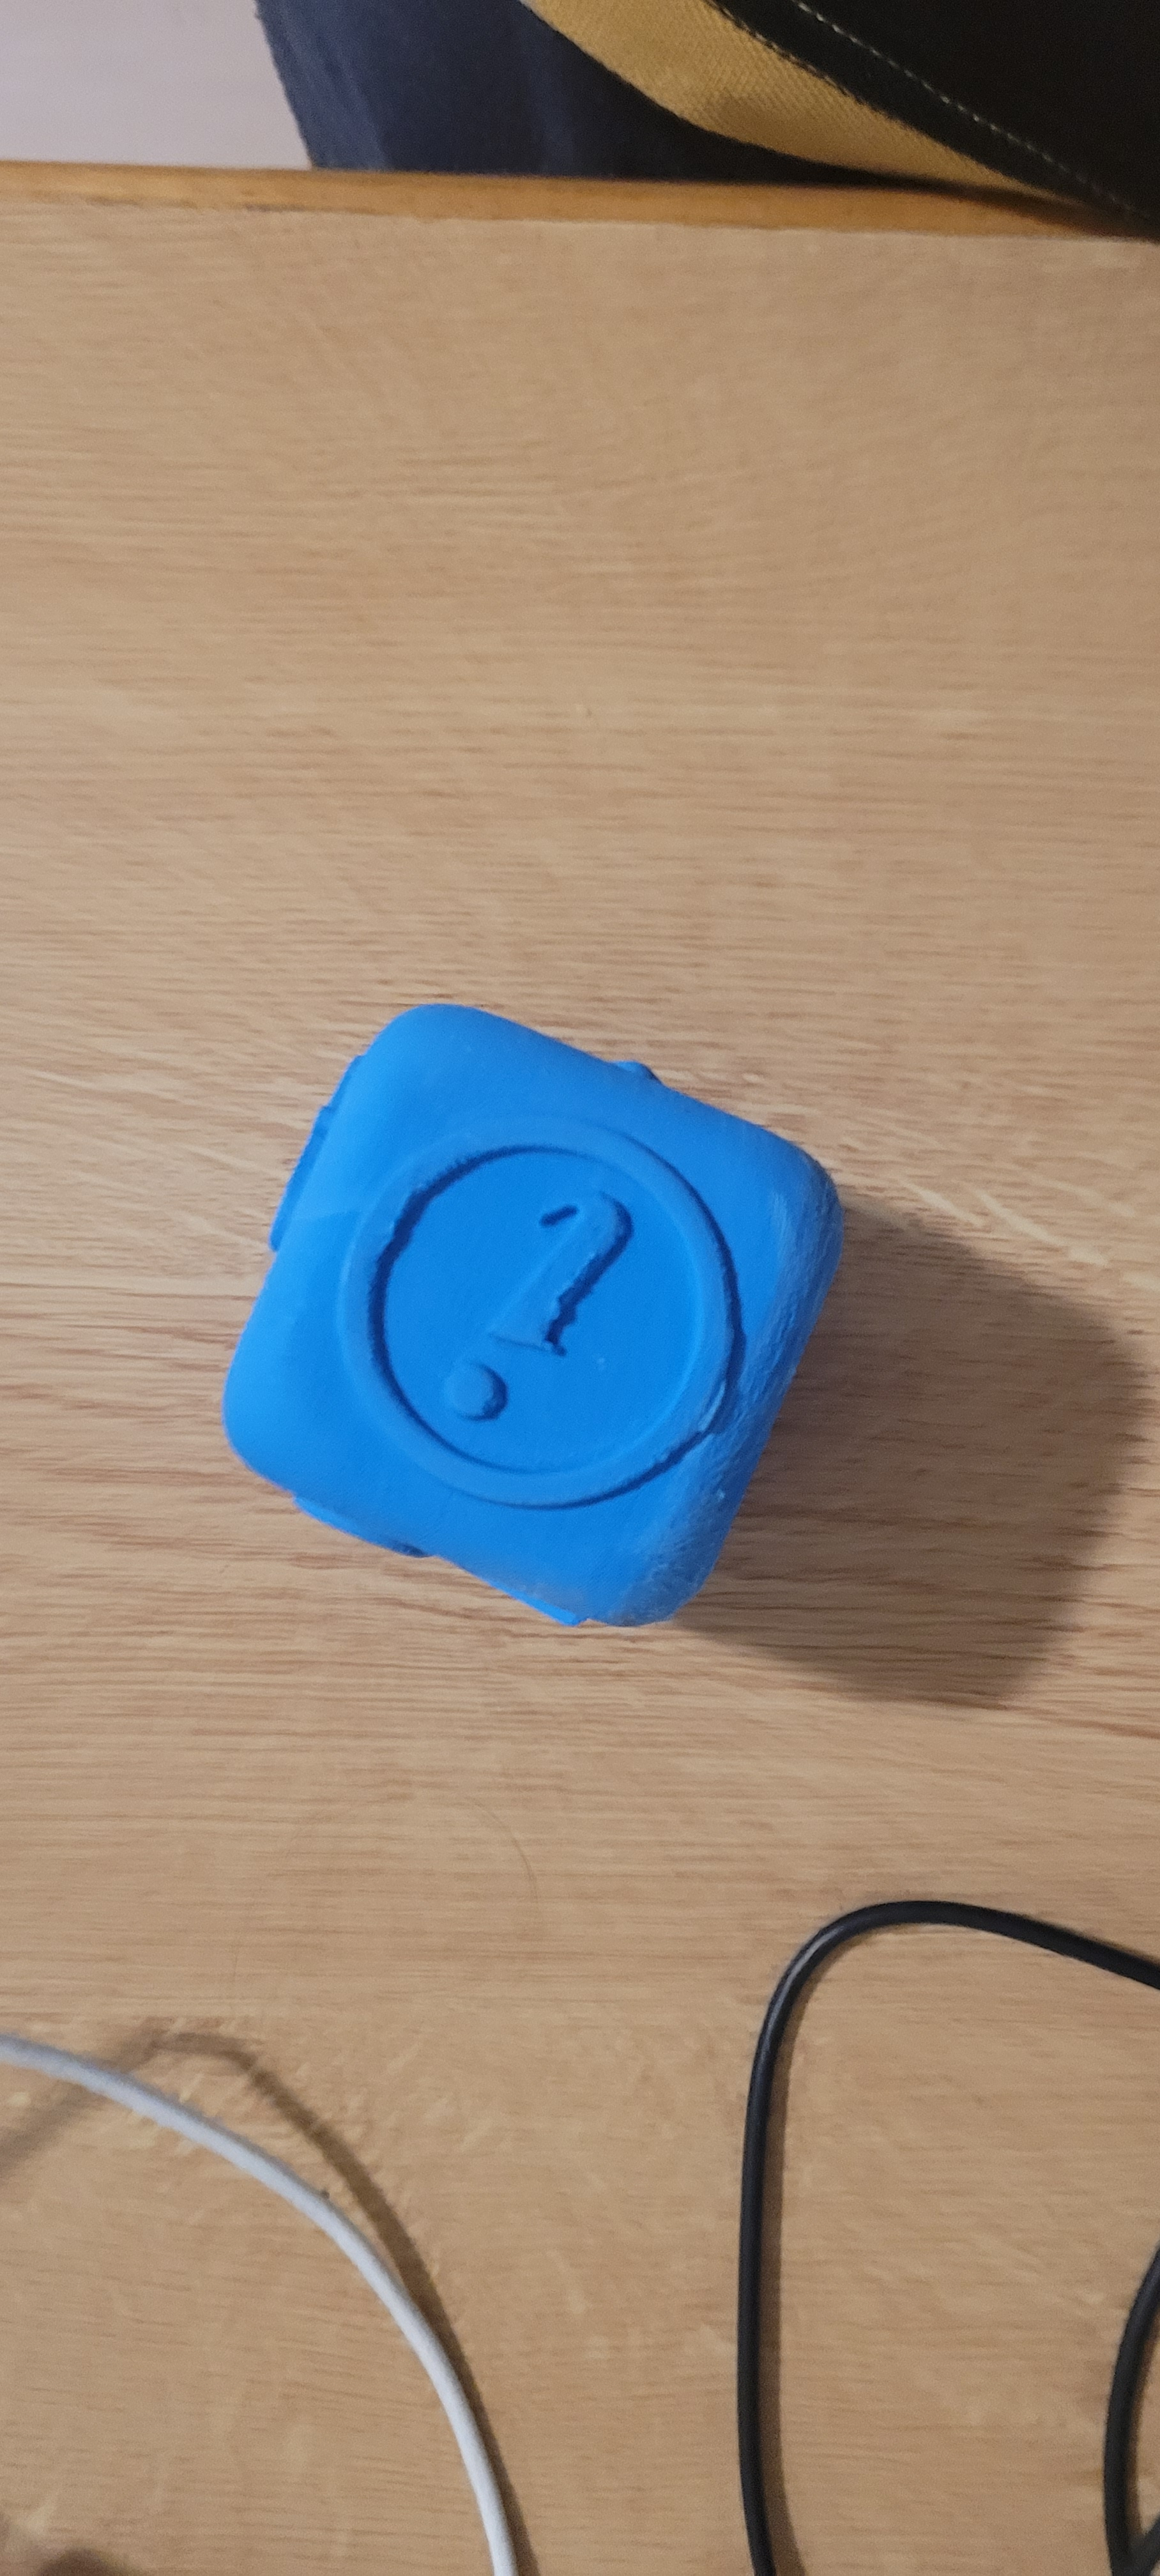Info: (320, 1135, 810, 1529)
